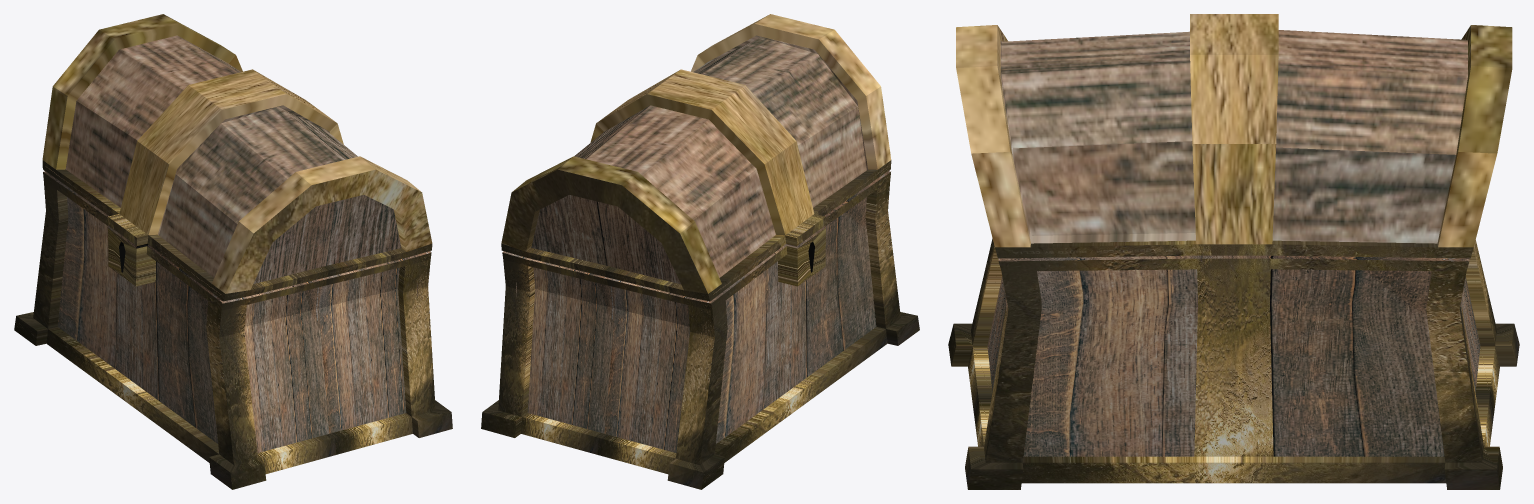
The model's file is lasttimefinalchest.fbx.
The picture shows the model from 3 angles, left to right: view 1: azimuth 30°, elevation 25°; view 2: azimuth 150°, elevation 25°; view 3: azimuth 270°, elevation 25°; orthographic projection. The views are drawn at different scales.
Visible parts, largest first — view 1: body, head; view 2: body, head; view 3: body, head.
Boxes of the visible parts, x1,y1,x2,y2 form: body: (14, 171, 452, 489); head: (42, 14, 432, 301); body: (481, 171, 919, 489); head: (501, 14, 891, 301); body: (948, 238, 1519, 489); head: (956, 14, 1512, 260).
Size of the model in its own units: 24.31 by 29.68 by 40.15.
3 materials, 2 textured.
